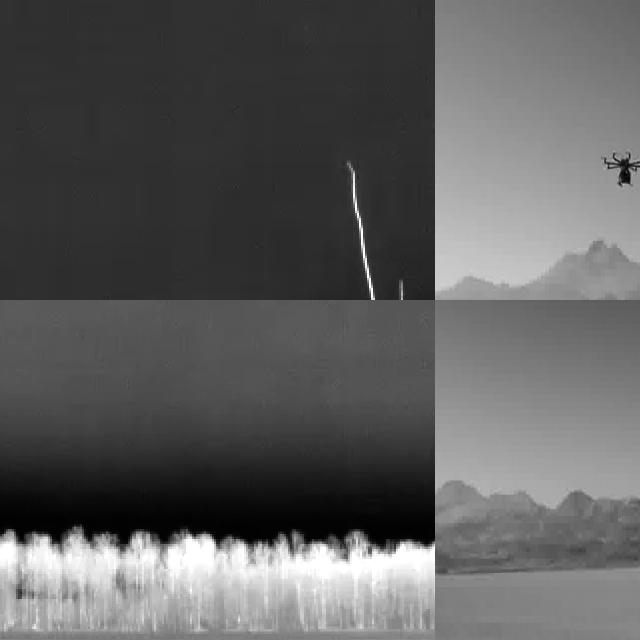drone: (601, 146, 640, 193)
